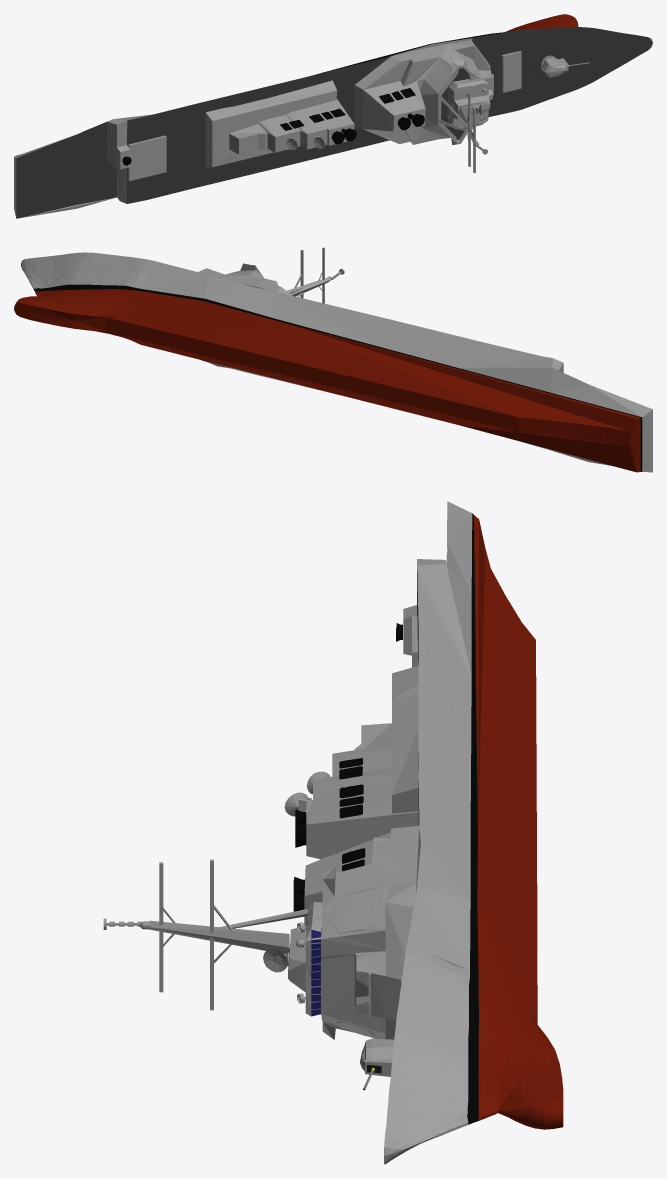
Rendered from arleigh_burke.obj.
The picture shows the model from 3 angles, top to bottom: view 1: azimuth 30°, elevation 25°; view 2: azimuth 150°, elevation 25°; view 3: azimuth 270°, elevation 25°; orthographic projection. The views are drawn at different scales.
Parts seen in each view (by area): view 1: part_47, part_44, part_40, part_46, part_41, part_49, part_20, part_45, part_43, part_51, part_48; view 2: part_45, part_46, part_48, part_44; view 3: part_46, part_45, part_44, part_40, part_48, part_19.
Part boxes in pixels (<box>): part_47: <box>16,27,652,218</box>; part_44: <box>354,40,493,144</box>; part_40: <box>205,80,354,168</box>; part_46: <box>14,29,652,218</box>; part_41: <box>128,135,166,181</box>; part_49: <box>527,44,567,84</box>; part_20: <box>501,51,521,92</box>; part_45: <box>15,14,578,156</box>; part_43: <box>441,68,468,139</box>; part_51: <box>542,57,567,77</box>; part_48: <box>317,32,506,74</box>; part_45: <box>14,289,640,472</box>; part_46: <box>14,252,652,472</box>; part_48: <box>34,284,642,471</box>; part_44: <box>198,263,292,368</box>; part_46: <box>384,501,472,1164</box>; part_45: <box>474,515,563,1129</box>; part_44: <box>288,825,419,1039</box>; part_40: <box>306,666,418,859</box>; part_48: <box>467,513,478,1124</box>; part_19: <box>149,920,289,953</box>.
Bounding box in the file's own units: 154 × 20.43 × 49.29.
